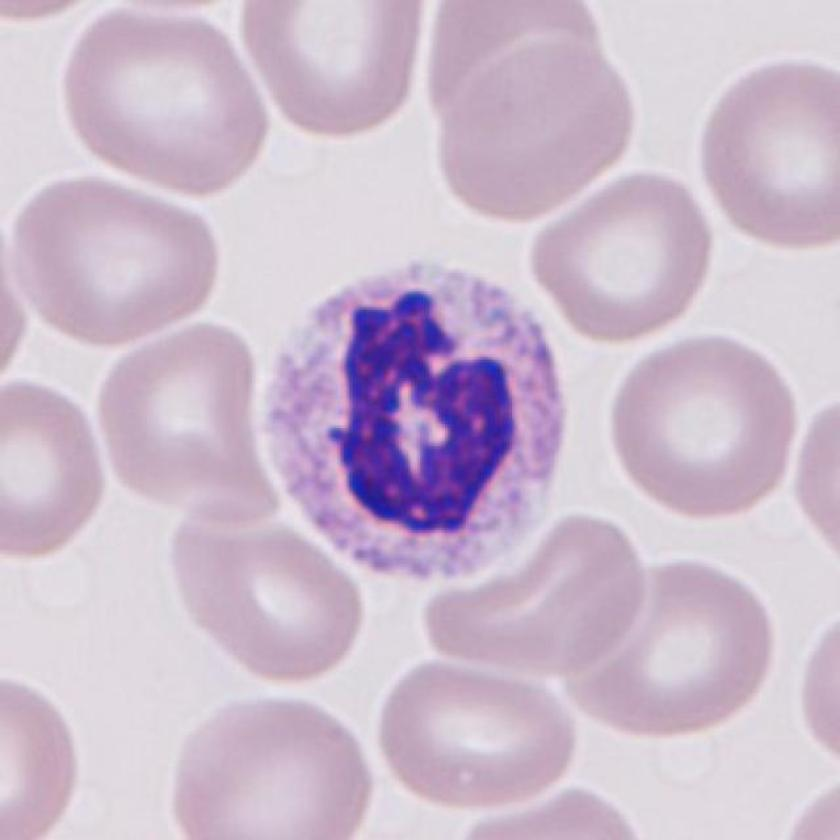neutrophil: (269, 256, 573, 581)
